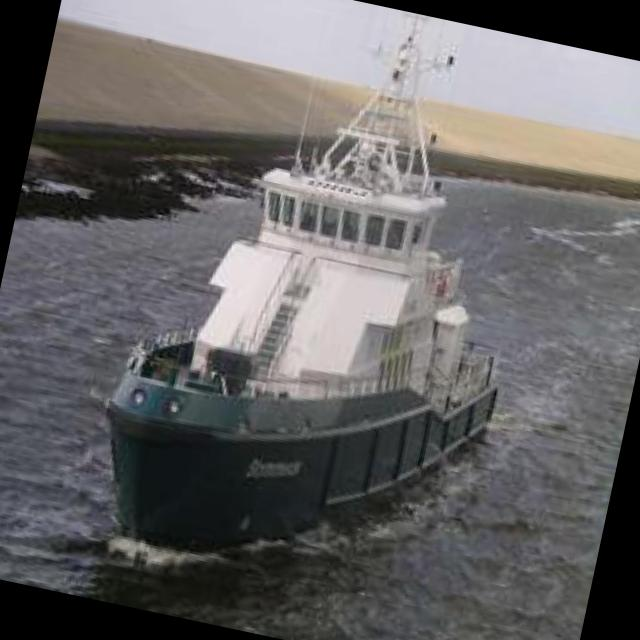boat: (68, 63, 553, 598)
